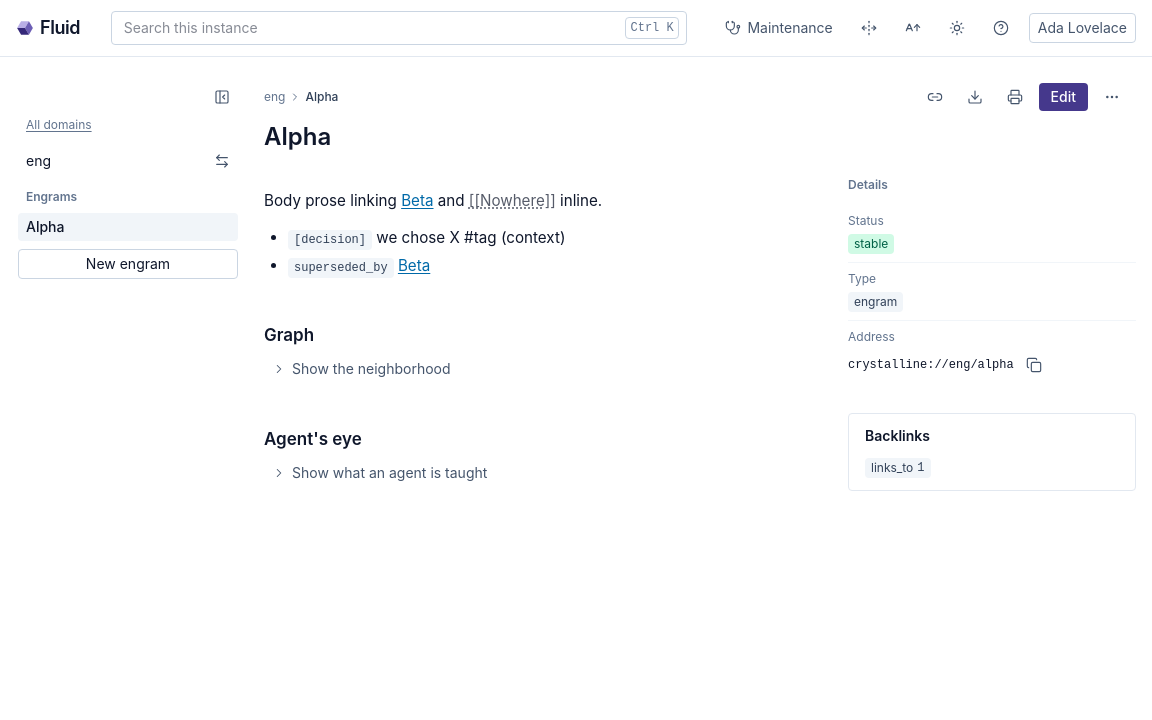
the engram page › says nothing about a salience the engram does not carry
Click the button "Show what an agent is taught".
click(380, 473)  # box [264, 459, 495, 487]
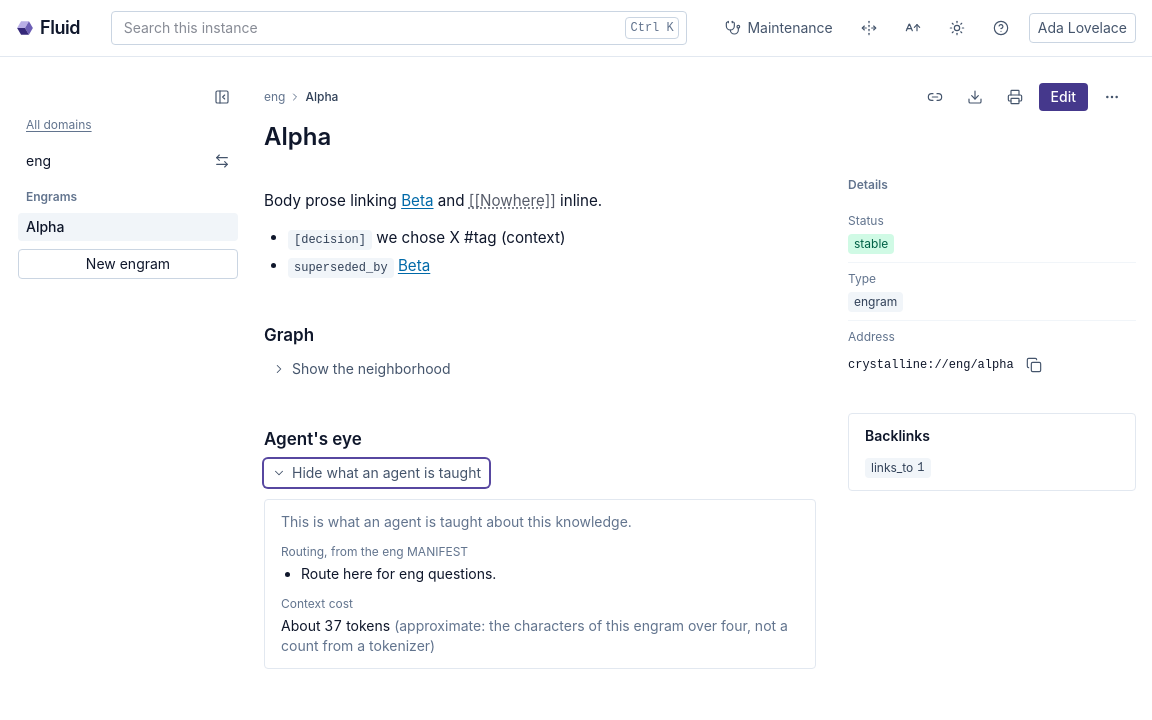
Check: the element "Agent" shows "Route here for eng questions.", box [301, 565, 496, 582]
